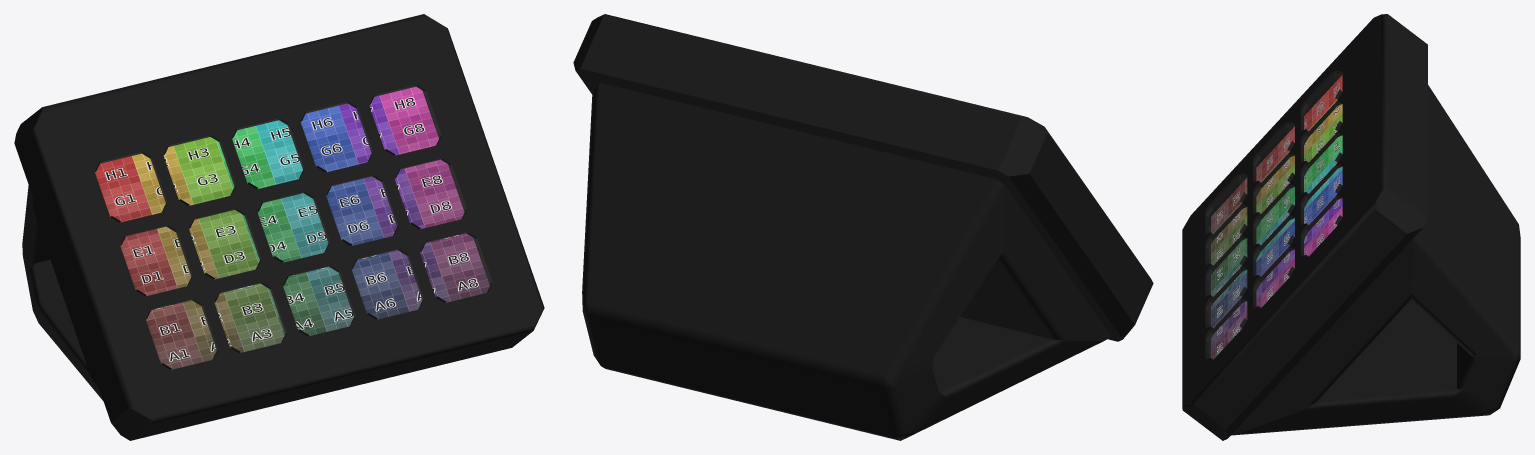
The model's file is tabletop-lcd-buttons-controller.glb.
The picture shows the model from 3 angles, left to right: view 1: azimuth 30°, elevation 25°; view 2: azimuth 150°, elevation 25°; view 3: azimuth 270°, elevation 25°; orthographic projection. The views are drawn at different scales.
Parts seen in each view (by area): view 1: Front, __X_SCREEN__, Body; view 2: Body, Front; view 3: Front, Body, __X_SCREEN__.
Part boxes in pixels (x1,y1,x2,y2): Front: [14, 14, 544, 440]; __X_SCREEN__: [95, 86, 489, 369]; Body: [22, 185, 103, 400]; Body: [582, 82, 1111, 440]; Front: [573, 14, 1153, 341]; Front: [1182, 14, 1427, 440]; Body: [1231, 85, 1520, 435]; __X_SCREEN__: [1211, 75, 1342, 359].
Bounding box in the file's own units: 0.12 × 0.0741 × 0.09.
3 materials, 1 textured.
